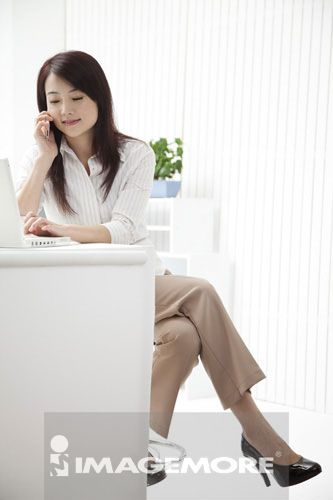talk: (33, 85, 96, 155)
